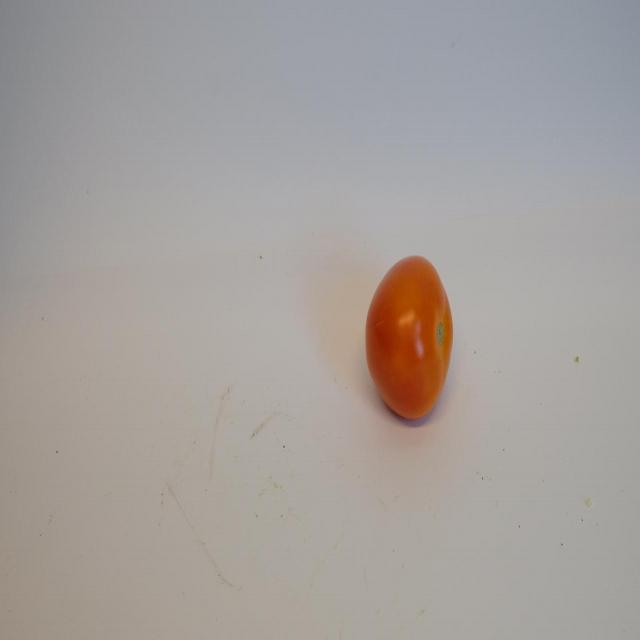tomato: (364, 254, 456, 422)
